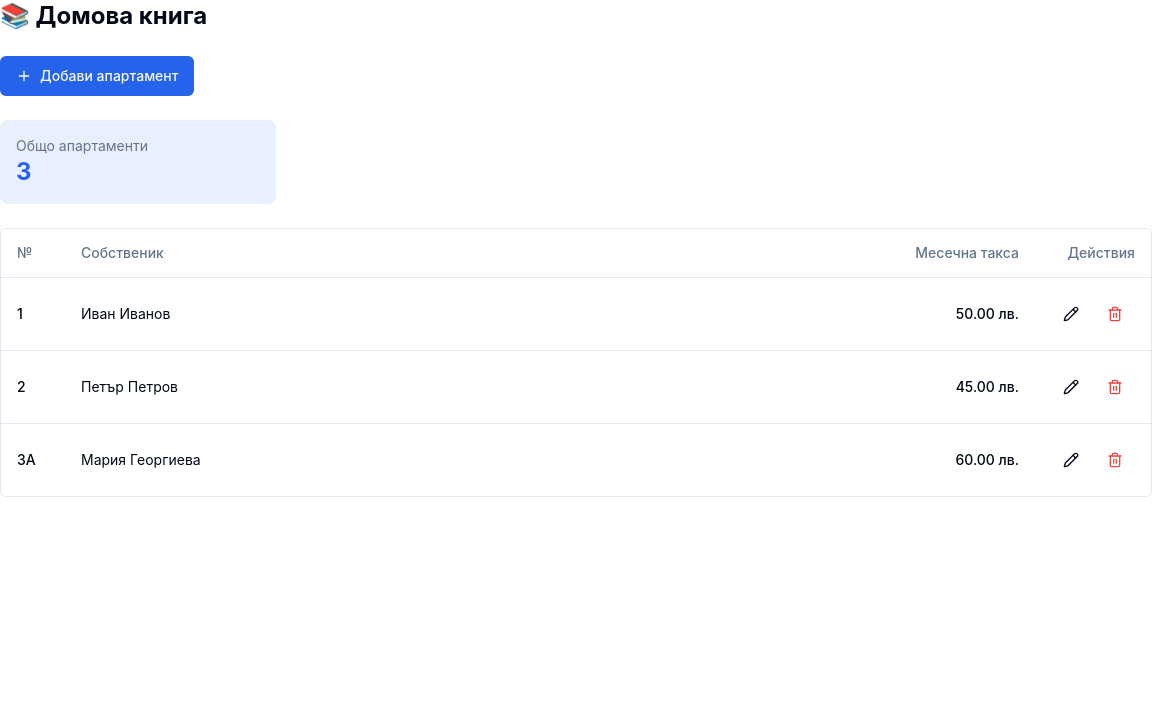
Apartments Page › Delete Apartment › should open confirmation dialog when delete button is clicked
Expected: the text "Иван Иванов" is shown, [65,277,574,350]
Click first delete button
Click the button titled "изтрий" in the row of "Иван Иванов": click(1115, 314) [1095,294,1135,334]
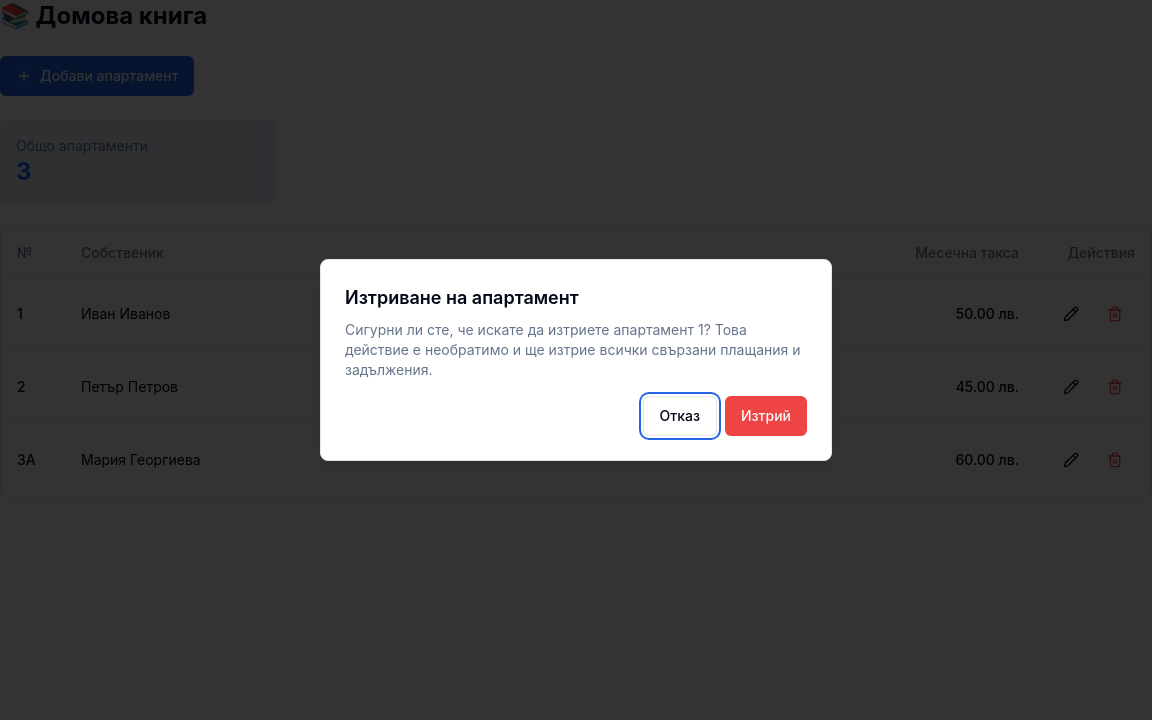
Expected: the heading "Изтриване на апартамент" is shown, [345,287,579,308]
